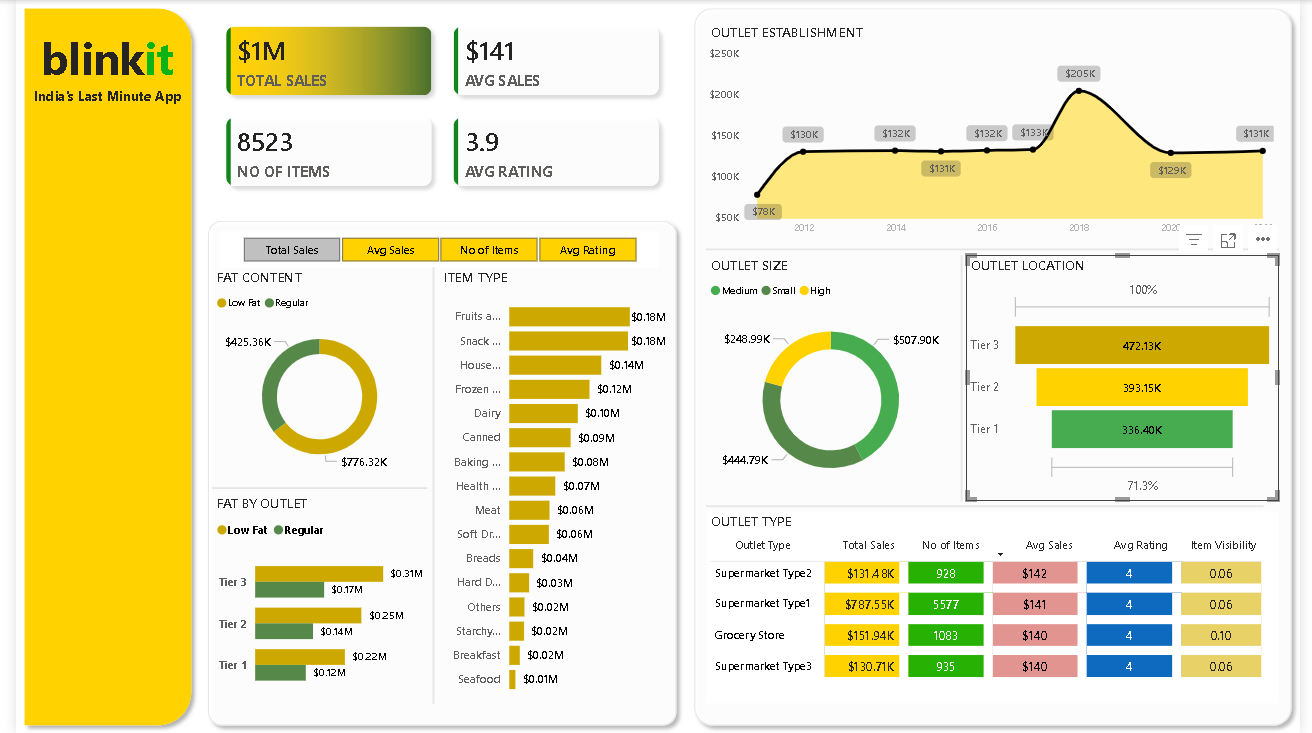

This screenshot's page, from the dashboard's own definition file:
{"tool":"powerbi","page":{"name":"Page 1","canvas":[1400,800],"ordinal":0},"visuals":[{"type":"shape","box":[0,0,200.4,800.3],"z":0},{"type":"textbox","box":[14,24,172,120],"z":1000},{"type":"cardVisual","fields":{"Data":["BlinkIT Grocery Data.Total Sales","BlinkIT Grocery Data.Avg Sales","BlinkIT Grocery Data.No of Items","BlinkIT Grocery Data.Avg Rating"]},"box":[200,0,530,232],"z":2000},{"type":"shape","box":[200.4,231.8,529,568.5],"z":3000},{"type":"donutChart","title":"FAT CONTENT","fields":{"Y":["BlinkIT Grocery Data.Total Sales"],"Category":["BlinkIT Grocery Data.Item Fat Content"]},"box":[214,291.8,234.5,234.5],"z":4000},{"type":"slicer","fields":{"Values":["metricss.metricss"]},"box":[222,252,478,40],"z":5000},{"type":"clusteredBarChart","title":"FAT BY OUTLET","fields":{"Y":["BlinkIT Grocery Data.Total Sales"],"Category":["BlinkIT Grocery Data.Outlet Location Type"],"Series":["BlinkIT Grocery Data.Item Fat Content"]},"box":[214,538.5,234.5,229],"z":6000},{"type":"shape","box":[214,526.2,234.5,12.3],"z":7000},{"type":"shape","box":[448.5,291.8,13.6,475.8],"z":8000},{"type":"barChart","title":"ITEM TYPE","fields":{"Y":["BlinkIT Grocery Data.Total Sales"],"Category":["BlinkIT Grocery Data.Item Type"]},"box":[462.2,291.8,253.6,475.8],"z":9000},{"type":"shape","box":[730.7,0,669.4,800.3],"z":10000},{"type":"lineChart","title":"OUTLET ESTABLISHMENT","fields":{"Category":["BlinkIT Grocery Data.Outlet Establishment Year"],"Y":["BlinkIT Grocery Data.Total Sales"]},"box":[752.6,24.5,624.4,241.3],"z":11000},{"type":"shape","box":[752.6,265.9,624.4,12.3],"z":13000},{"type":"donutChart","title":"OUTLET SIZE","fields":{"Y":["BlinkIT Grocery Data.Total Sales"],"Category":["BlinkIT Grocery Data.Outlet Size"]},"box":[752.6,278.1,272.7,268.6],"z":14000},{"type":"shape","box":[1025.2,278.1,12.3,268.6],"z":15000},{"type":"funnel","title":"OUTLET LOCATION","fields":{"Y":["Sum(BlinkIT Grocery Data.Sales)"],"Category":["BlinkIT Grocery Data.Outlet Location Type"]},"box":[1036.1,278.1,340.8,268.6],"z":16000},{"type":"pivotTable","title":"OUTLET TYPE","fields":{"Rows":["BlinkIT Grocery Data.Outlet Type"],"Values":["BlinkIT Grocery Data.Total Sales","BlinkIT Grocery Data.No of Items","BlinkIT Grocery Data.Avg Sales","BlinkIT Grocery Data.Avg Rating","Avg(BlinkIT Grocery Data.Item Visibility)"]},"box":[752.6,557.6,624.4,210],"z":16001},{"type":"shape","box":[752.6,546.7,608,10.9],"z":16002}]}

Visuals, with their boxes in screenshot pixels (x1, y1, x2, y2), scaled from the page's 1400x800 canvas onto the 1312x733 screenshot:
shape: BBox(0, 0, 188, 732)
textbox: BBox(13, 22, 174, 132)
cardVisual - BlinkIT Grocery Data.Total Sales x BlinkIT Grocery Data.Avg Sales: BBox(187, 0, 684, 213)
shape: BBox(188, 212, 684, 732)
"FAT CONTENT" donutChart: BBox(201, 267, 420, 482)
slicer - metricss.metricss: BBox(208, 231, 656, 268)
"FAT BY OUTLET" clusteredBarChart: BBox(201, 493, 420, 703)
shape: BBox(201, 482, 420, 493)
shape: BBox(420, 267, 433, 703)
"ITEM TYPE" barChart: BBox(433, 267, 671, 703)
shape: BBox(685, 0, 1311, 732)
"OUTLET ESTABLISHMENT" lineChart: BBox(705, 22, 1290, 244)
shape: BBox(705, 244, 1290, 255)
"OUTLET SIZE" donutChart: BBox(705, 255, 961, 501)
shape: BBox(961, 255, 972, 501)
"OUTLET LOCATION" funnel: BBox(971, 255, 1290, 501)
"OUTLET TYPE" pivotTable: BBox(705, 511, 1290, 703)
shape: BBox(705, 501, 1275, 511)
